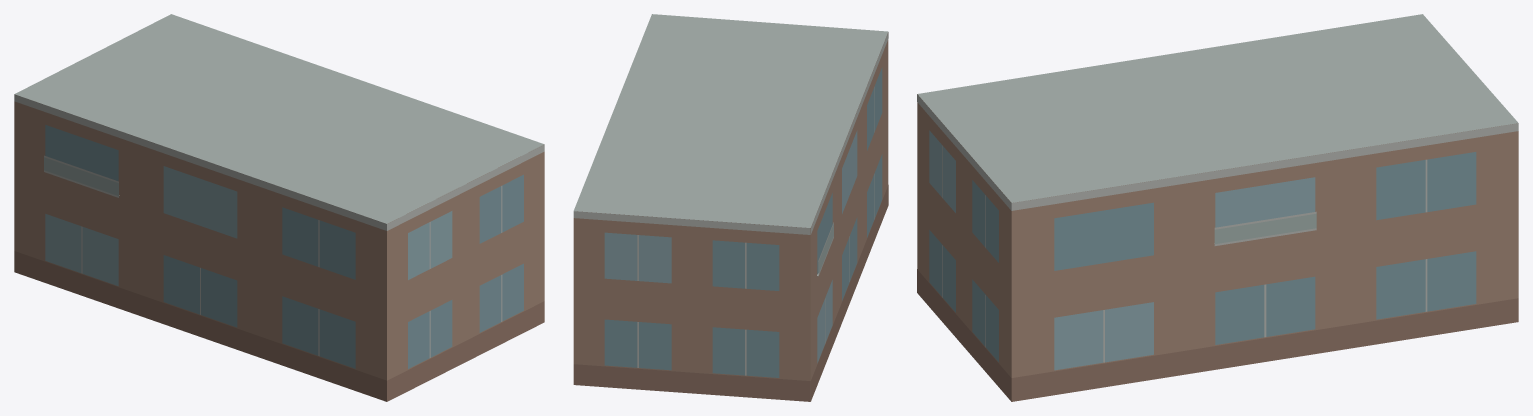
The model's file is survey-upis-32904798.glb.
The picture shows the model from 3 angles, left to right: view 1: azimuth 30°, elevation 25°; view 2: azimuth 150°, elevation 25°; view 3: azimuth 270°, elevation 25°; orthographic projection. The views are drawn at different scales.
Parts seen in each view (by area): view 1: survey-upis-32904798.tmp; view 2: survey-upis-32904798.tmp; view 3: survey-upis-32904798.tmp.
Part boxes in pixels (x1,y1,x2,y2): survey-upis-32904798.tmp: (14,14,544,401); survey-upis-32904798.tmp: (573,14,888,401); survey-upis-32904798.tmp: (917,14,1518,401).
Bounding box in the file's own units: 12.44 × 6.1 × 16.73.
